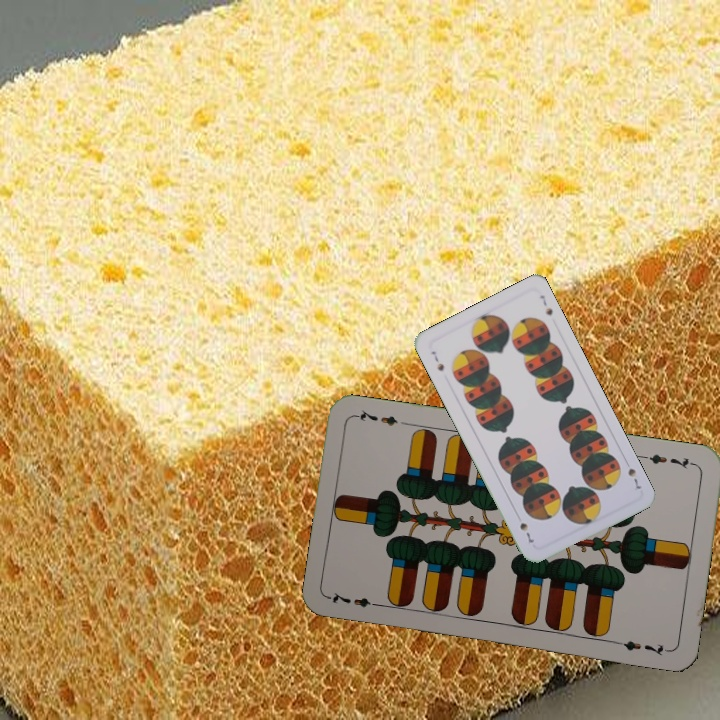E7: (326, 588, 385, 610), (639, 450, 698, 471)
S7: (624, 464, 643, 494), (427, 347, 447, 374)
